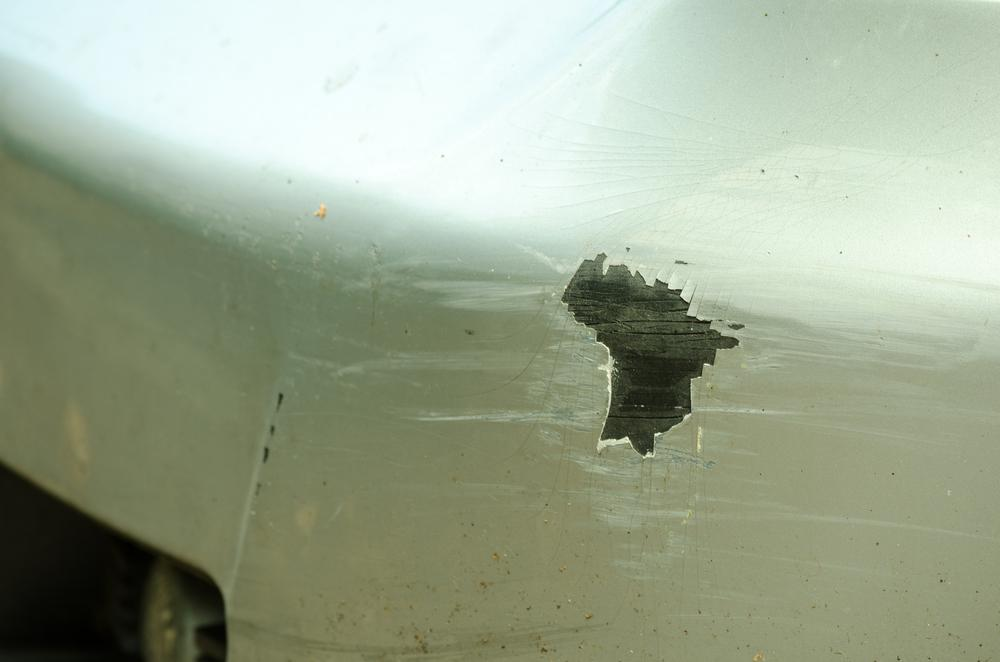scratch: (327, 229, 1000, 584)
